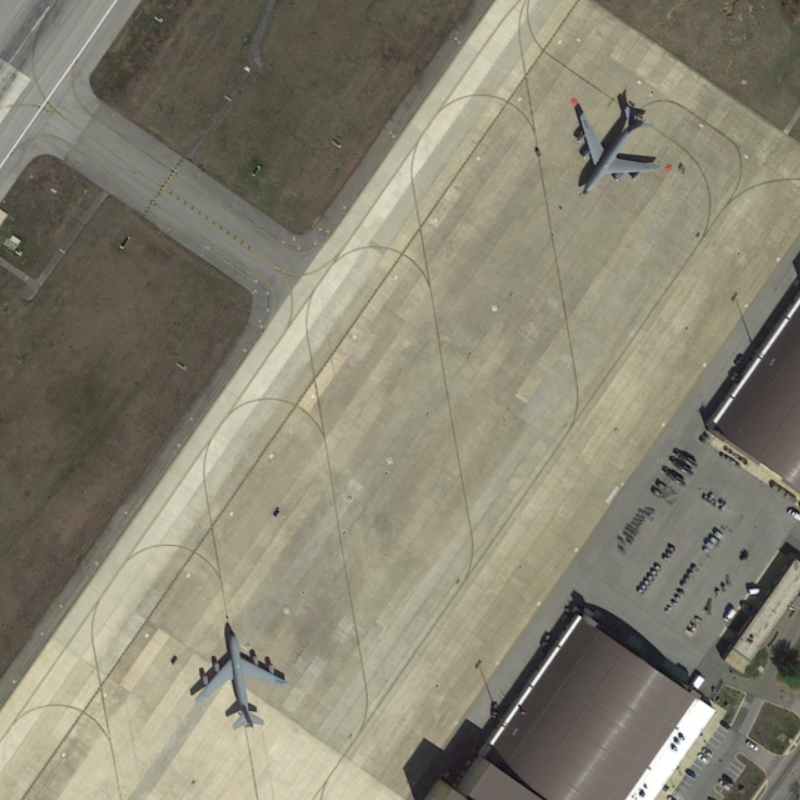A14: (188, 615, 293, 735), (570, 95, 663, 193)
